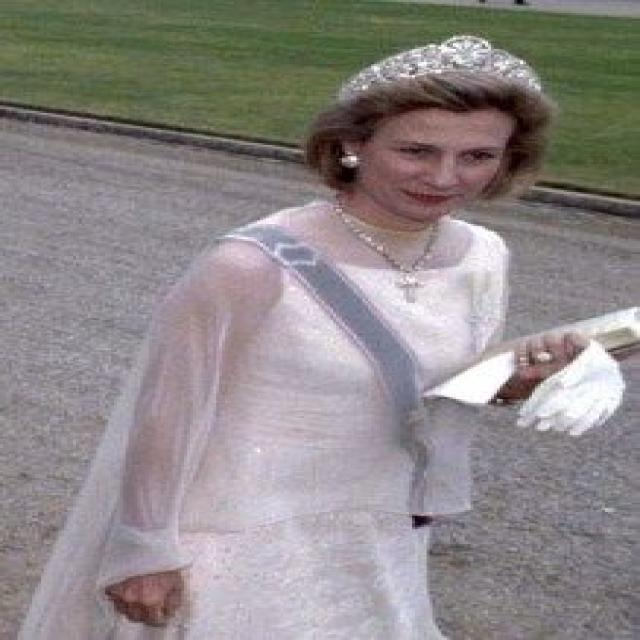Earring: (338, 143, 366, 172)
